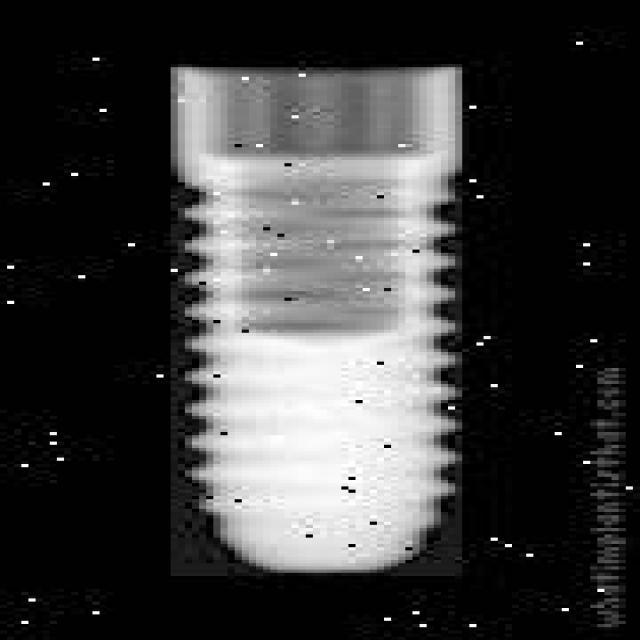Osstem Implant: (171, 67, 462, 576)
